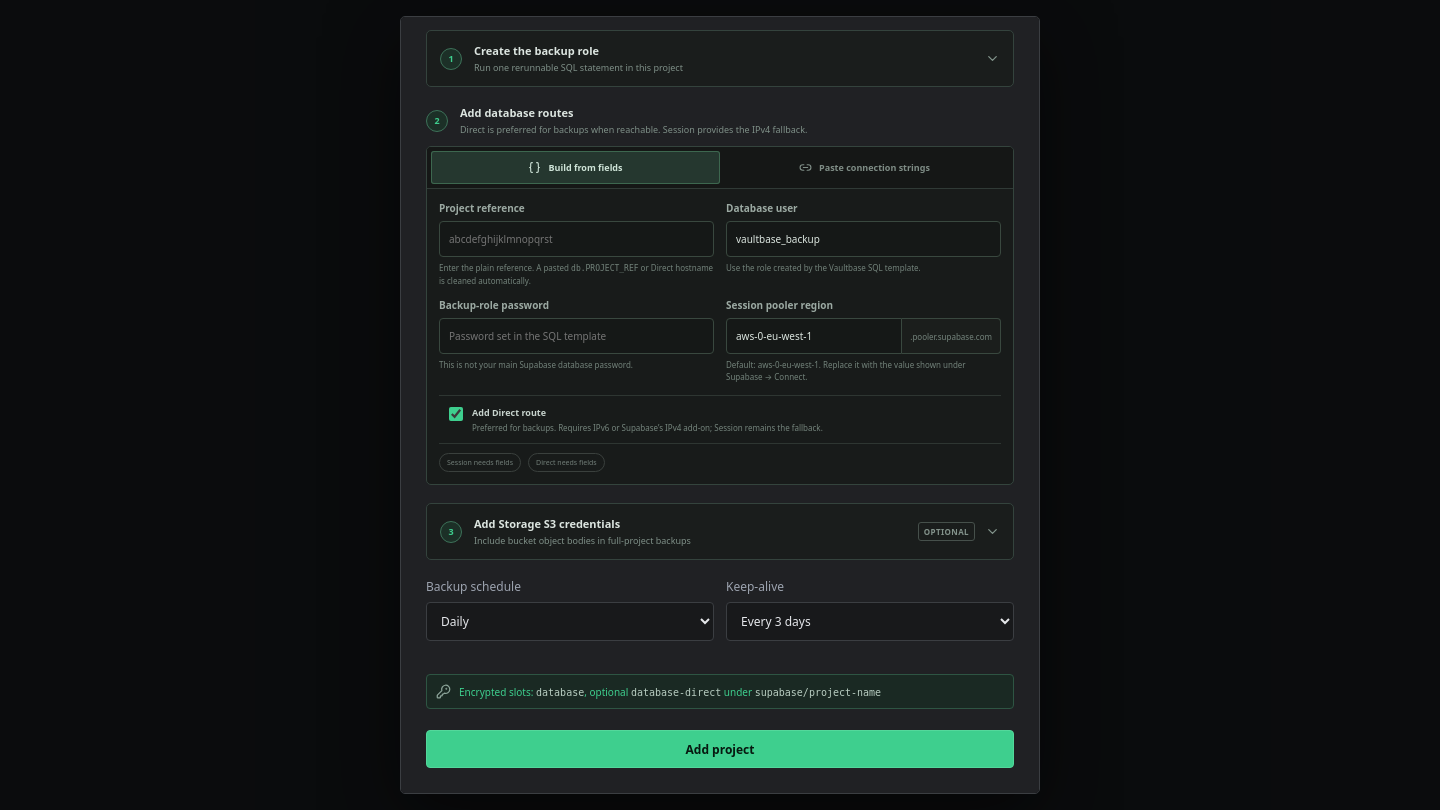
Test: AddProjectDialog › collects an optional owner and progressively reveals Storage S3 credentials
(page scrolled)
Expected: the field labelled "Access key ID" is not shown
Click the button "Add Storage S3 credentials".
click(547, 524)  # box [427,504,1013,559]
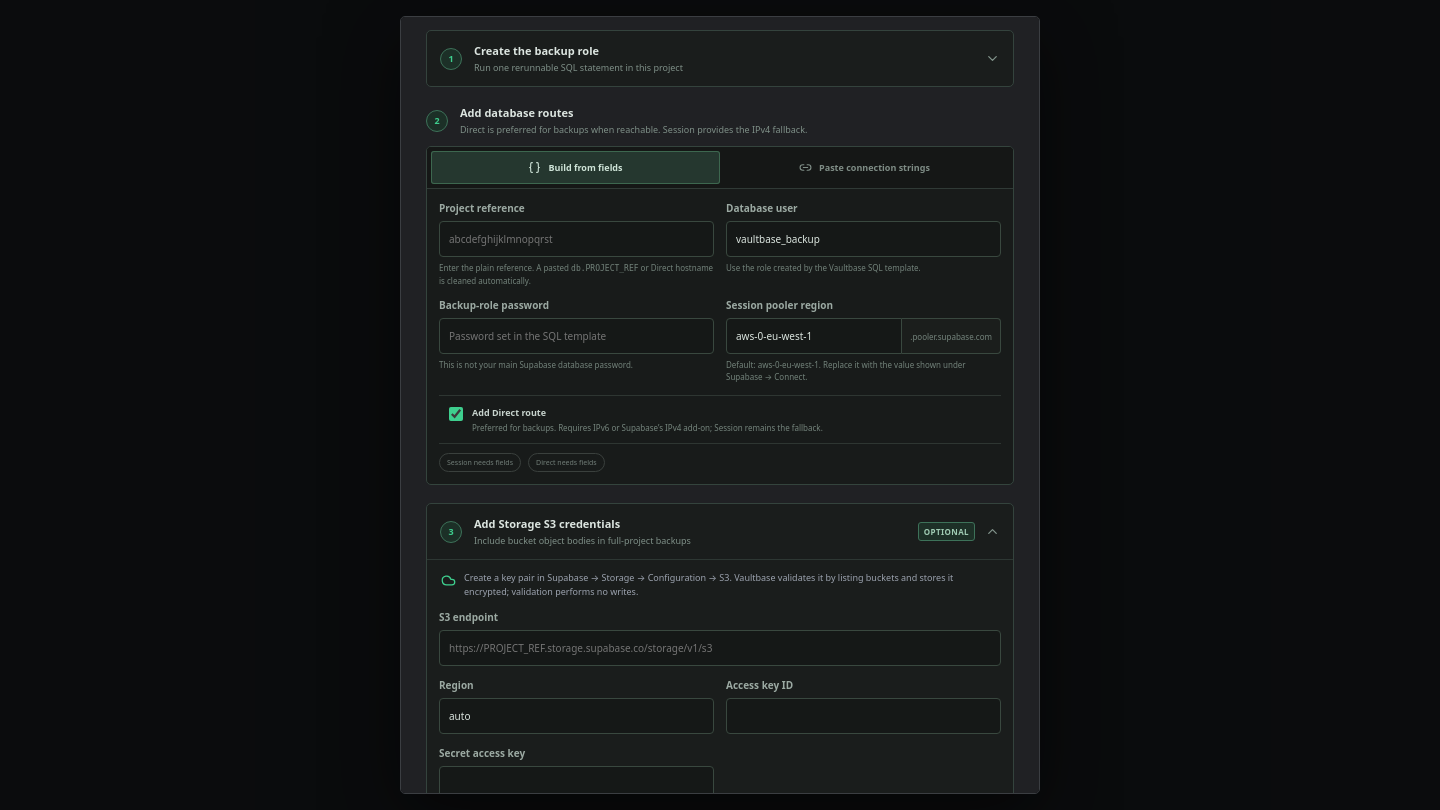
Expected: the field labelled "S3 endpoint" is shown, [439,630,1001,666]
Expected: the field labelled "Region" is shown, [439,698,714,734]
